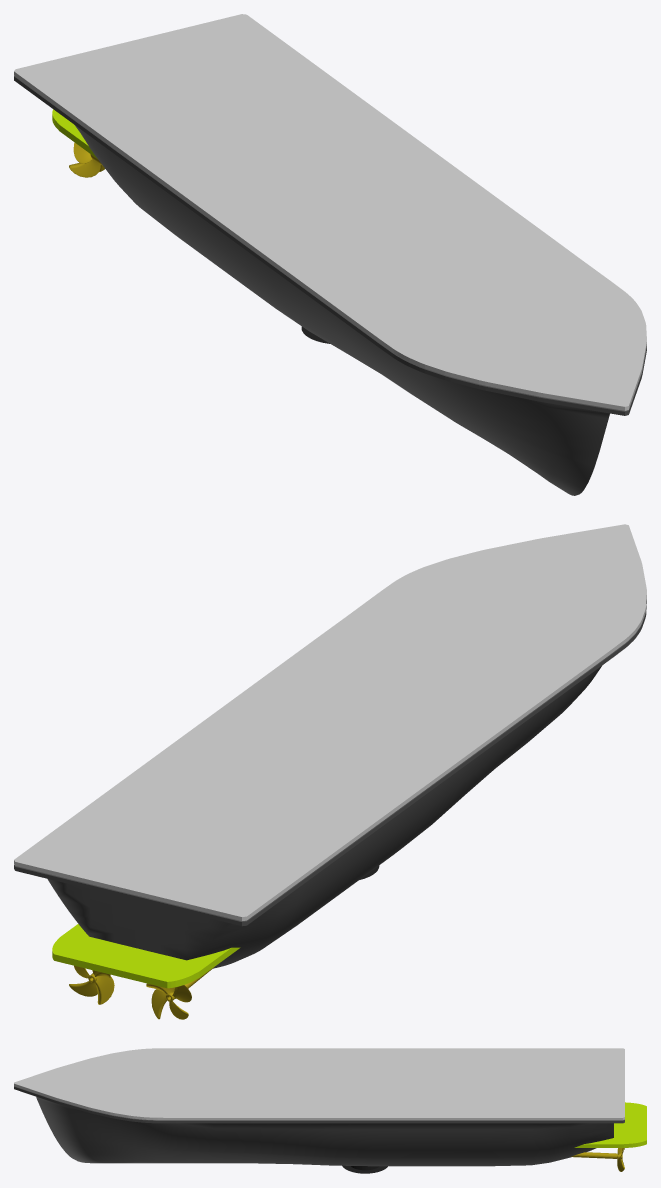
File: aauship.dae
3 views of the same model, one above another, from view 1: azimuth 30°, elevation 25°; view 2: azimuth 150°, elevation 25°; view 3: azimuth 270°, elevation 25° (orthographic). The views are drawn at different scales.
Parts seen in each view (by area): view 1: lid, hull, propeller-starboardside; view 2: lid, hull, finn, propeller-portside, propeller-starboardside; view 3: lid, hull, finn, Echo_sounder, axle-portside.
Part boxes in pixels (x1,y1,x2,y2): lid: (14, 14, 646, 410); hull: (14, 76, 646, 495); propeller-starboardside: (69, 142, 104, 177); lid: (14, 524, 646, 920); hull: (14, 599, 646, 968); finn: (52, 924, 240, 988); propeller-portside: (69, 965, 114, 1004); propeller-starboardside: (146, 983, 191, 1019); lid: (14, 1048, 624, 1120); hull: (14, 1086, 624, 1166); finn: (574, 1102, 646, 1147); Echo_sounder: (342, 1165, 387, 1173); axle-portside: (571, 1152, 617, 1158).
Bounding box in the file's own units: 3 × 11.52 × 1.67.
